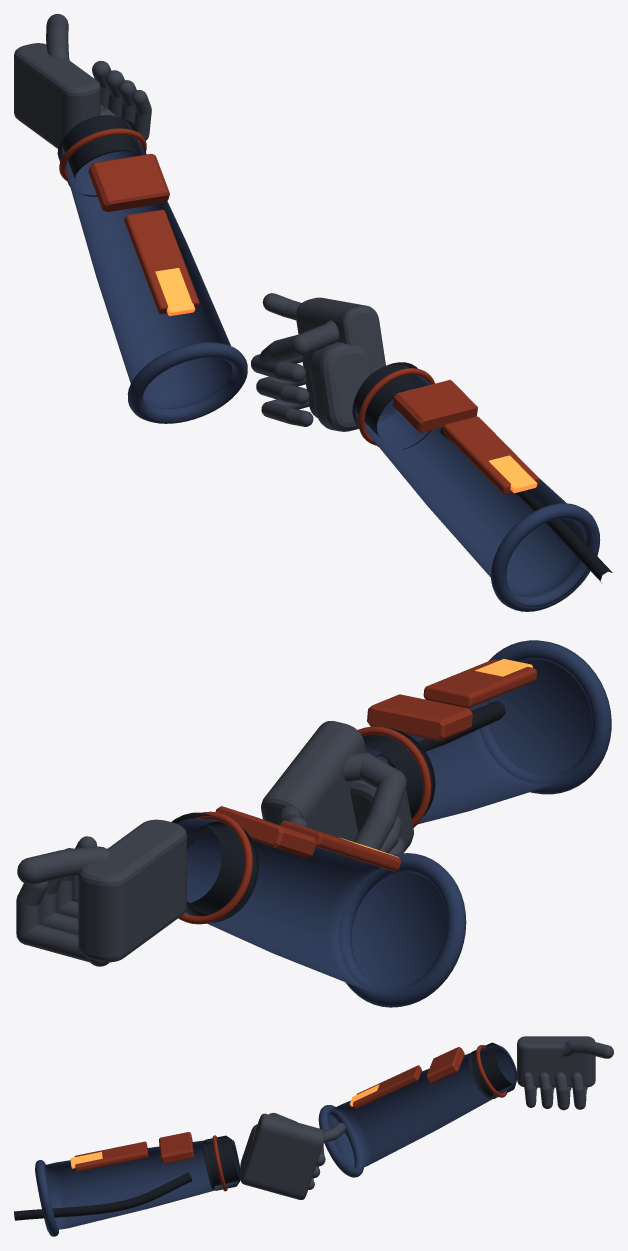
The model's file is hands_ember.glb.
3 views of the same model, one above another, from view 1: azimuth 30°, elevation 25°; view 2: azimuth 150°, elevation 25°; view 3: azimuth 270°, elevation 25° (orthographic). The views are drawn at different scales.
Visible parts, largest first — view 1: hand_l_forearm, hand_r_forearm, hand_l_palm, hand_r_sleeve_roll, hand_l_sleeve_roll, hand_r_heel, hand_r_palm, hand_l_cuff_plate, hand_l_forearm_plate, hand_r_cuff_plate, hand_r_forearm_plate, hand_l_cuff (+11 smaller); view 2: hand_l_forearm, hand_r_forearm, hand_l_palm, hand_r_palm, hand_l_sleeve_roll, hand_r_sleeve_roll, hand_l_cuff, hand_r_cuff_plate, hand_r_thumb, hand_r_forearm_plate, hand_l_finger3, hand_l_thumb (+10 smaller); view 3: hand_l_forearm, hand_r_forearm, hand_r_palm, hand_l_palm, hand_r_hose, hand_l_sleeve_roll, hand_r_cuff, hand_l_cuff, hand_r_forearm_plate, hand_l_forearm_plate, hand_r_sleeve_roll, hand_r_cuff_plate (+7 smaller).
Boxes of the visible parts, <box> form: hand_l_forearm: <box>62,115,240,421</box>; hand_r_forearm: <box>355,365,594,606</box>; hand_l_palm: <box>14,43,100,148</box>; hand_r_sleeve_roll: <box>491,503,600,611</box>; hand_l_sleeve_roll: <box>127,342,247,423</box>; hand_r_heel: <box>309,341,371,431</box>; hand_r_palm: <box>296,297,387,418</box>; hand_l_cuff_plate: <box>88,154,169,211</box>; hand_l_forearm_plate: <box>124,209,199,314</box>; hand_r_cuff_plate: <box>393,379,477,432</box>; hand_r_forearm_plate: <box>442,416,539,494</box>; hand_l_cuff: <box>57,116,146,196</box>; hand_l_forearm: <box>177,818,446,990</box>; hand_r_forearm: <box>365,657,591,824</box>; hand_l_palm: <box>78,819,186,962</box>; hand_r_palm: <box>261,721,366,841</box>; hand_l_sleeve_roll: <box>339,853,466,1007</box>; hand_r_sleeve_roll: <box>478,640,611,794</box>; hand_l_cuff: <box>171,812,258,922</box>; hand_r_cuff_plate: <box>367,694,472,740</box>; hand_r_thumb: <box>344,752,406,850</box>; hand_r_forearm_plate: <box>423,659,536,708</box>; hand_l_finger3: <box>16,881,89,962</box>; hand_l_thumb: <box>17,846,113,884</box>; hand_l_forearm: <box>328,1045,516,1168</box>; hand_r_forearm: <box>35,1138,241,1231</box>; hand_r_palm: <box>240,1113,324,1199</box>; hand_l_palm: <box>517,1036,595,1087</box>; hand_r_hose: <box>14,1172,192,1220</box>; hand_l_sleeve_roll: <box>318,1105,363,1177</box>; hand_r_cuff: <box>202,1135,239,1190</box>; hand_l_cuff: <box>468,1042,516,1098</box>; hand_r_forearm_plate: <box>74,1141,148,1171</box>; hand_l_forearm_plate: <box>353,1065,421,1108</box>; hand_r_sleeve_roll: <box>35,1160,58,1236</box>; hand_r_cuff_plate: <box>159,1132,193,1164</box>.
Bounding box in the file's own units: 0.2032 × 0.2363 × 0.7336.
